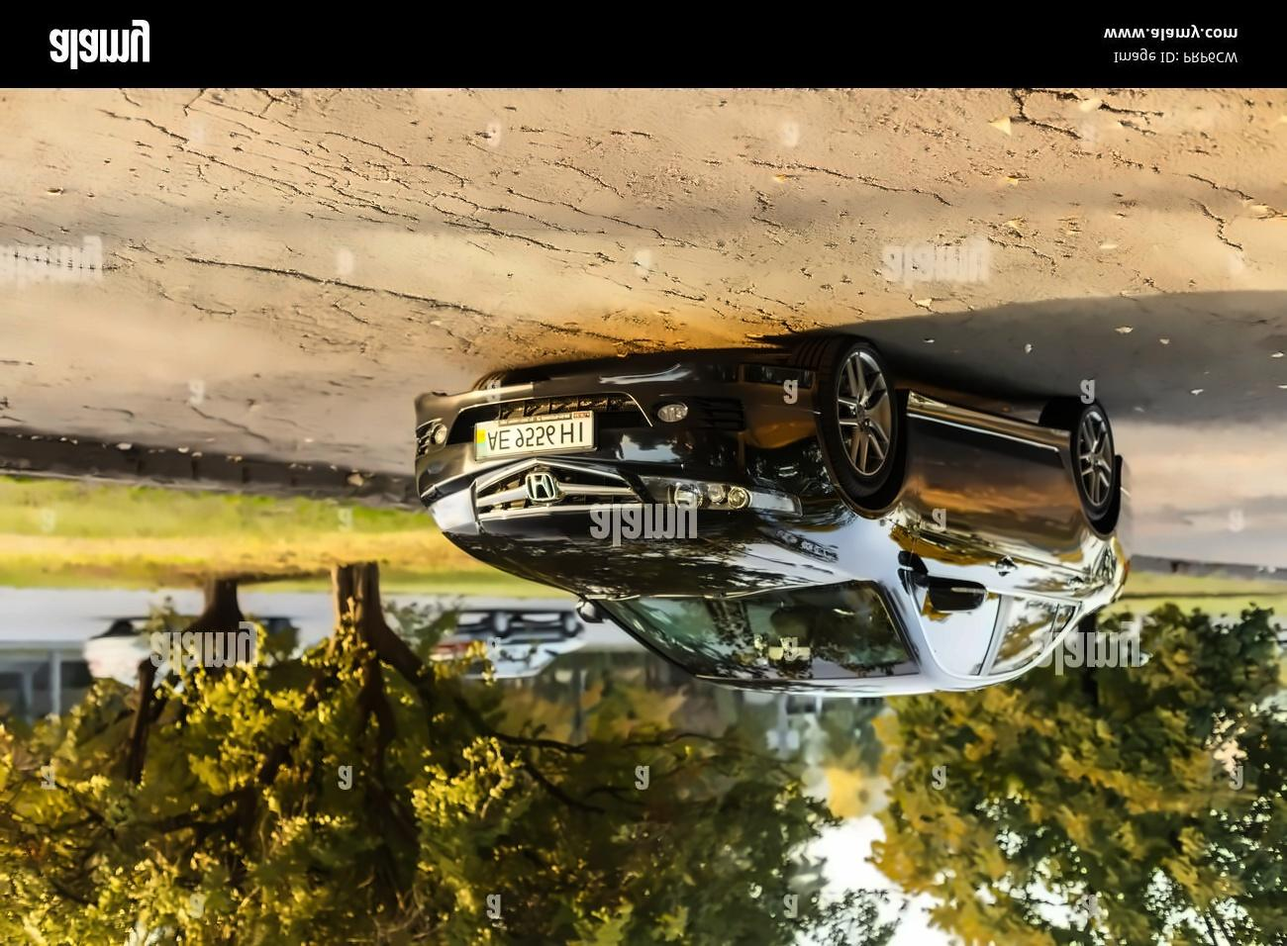Car hood: (434, 505, 847, 605)
Driver-s door - -F-R-: (919, 413, 1021, 687)
Fender - -F-R-: (800, 406, 920, 598)
Fender - -R-R-: (1066, 451, 1122, 595)
Front bumper: (405, 355, 847, 507)
Headlight - -L-: (420, 481, 486, 539)
Headlight - -R-: (626, 467, 810, 523)
Passenger-s door - -R-R-: (995, 421, 1089, 688)
Side bumper - -R-: (891, 382, 1077, 459)
Side mirror - -L-: (570, 592, 609, 628)
Side mirror - -R-: (913, 569, 995, 620)
